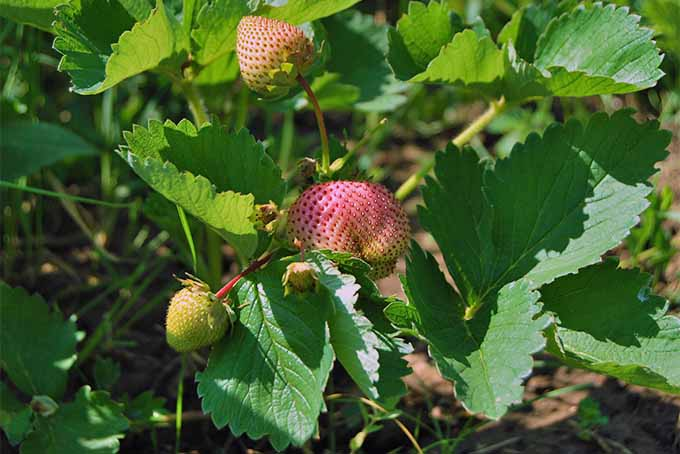unripe_strawberry: (285, 168, 412, 280), (233, 16, 321, 101), (165, 281, 233, 349)
